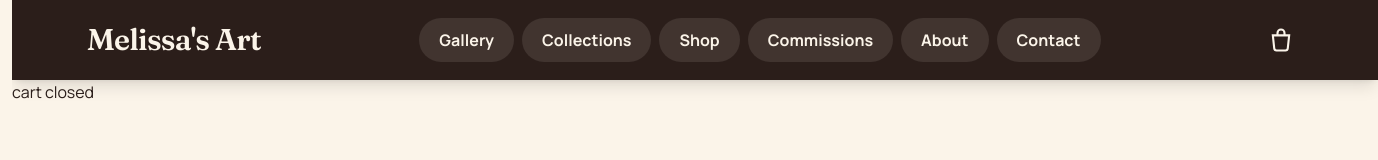
Test case: Header › shows an empty cart and opens it
Click the button named "Open cart, 0 items": (1281, 40) [1259,18,1303,62]
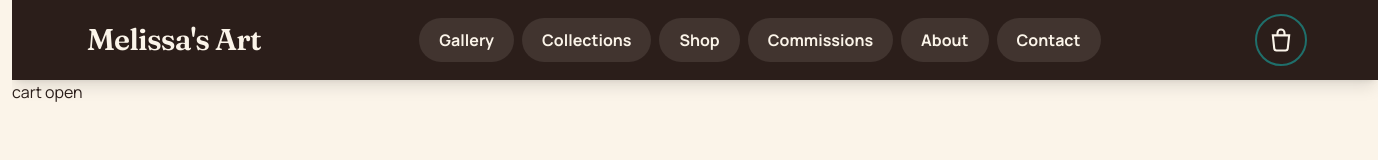
Result: the text "cart open" is shown at [12,81,83,103]
